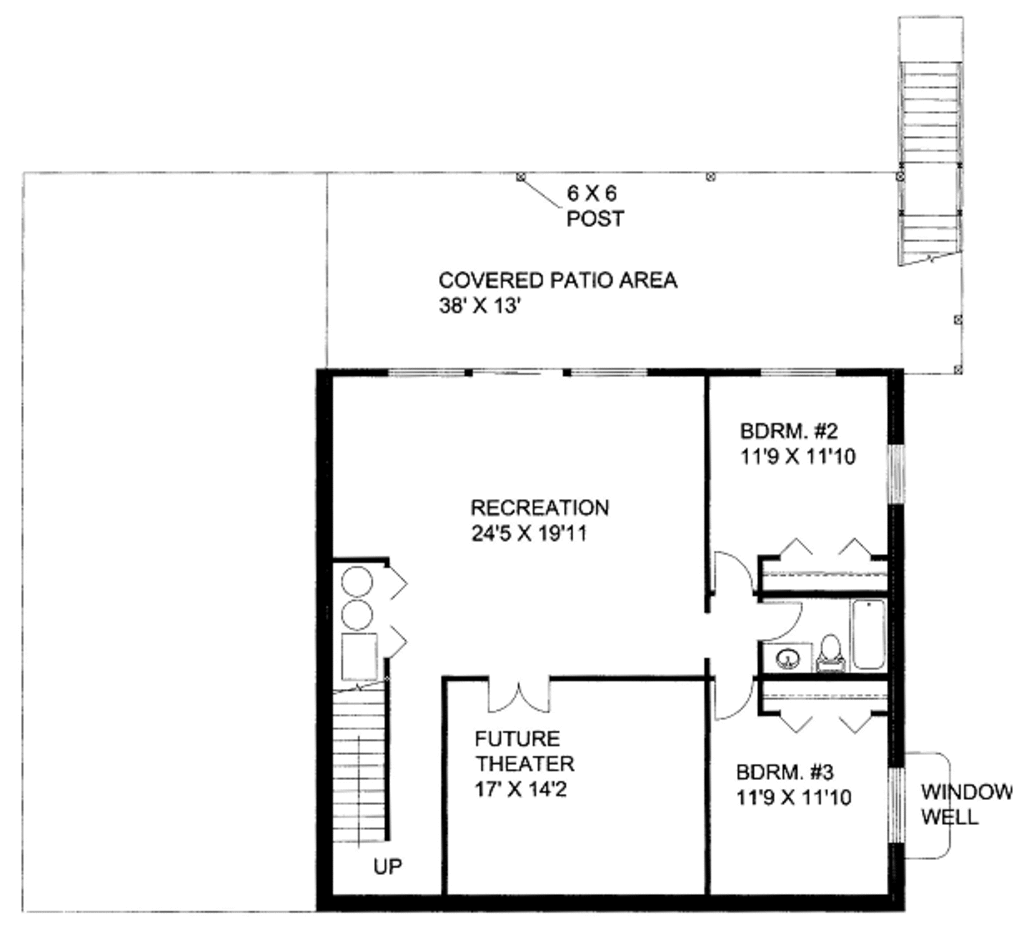door: (481, 667, 551, 719), (703, 544, 760, 606), (758, 603, 809, 645), (716, 674, 750, 717)
large_sink: (813, 630, 846, 682)
small_sink: (763, 644, 813, 674)
stairs: (898, 9, 964, 282), (330, 686, 392, 860)
tub: (850, 593, 887, 684)
window: (391, 368, 657, 381), (883, 757, 904, 845), (761, 367, 837, 381)
